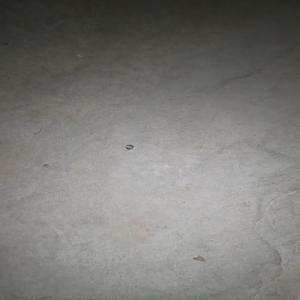Nut: (126, 144, 135, 150)
